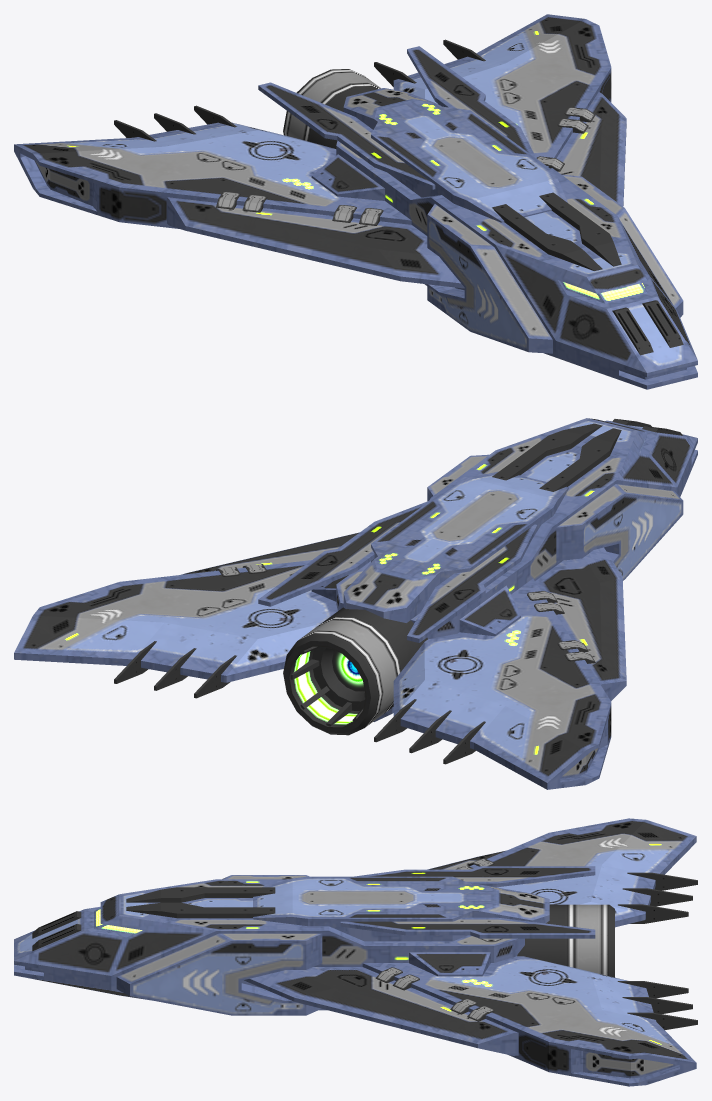
The model's file is transport-tallyman.glb.
The picture shows the model from 3 angles, top to bottom: view 1: azimuth 30°, elevation 25°; view 2: azimuth 150°, elevation 25°; view 3: azimuth 270°, elevation 25°; orthographic projection. The views are drawn at different scales.
Parts seen in each view (by area): view 1: hull; view 2: hull; view 3: hull.
Part boxes in pixels (left/top/right/bottom): hull: left=14, top=14, right=697, bottom=389; hull: left=14, top=418, right=697, bottom=789; hull: left=14, top=818, right=697, bottom=1086.
Bounding box in the file's own units: 0.8229 × 0.1638 × 1.
Materials: 1 (1 with a texture image).
